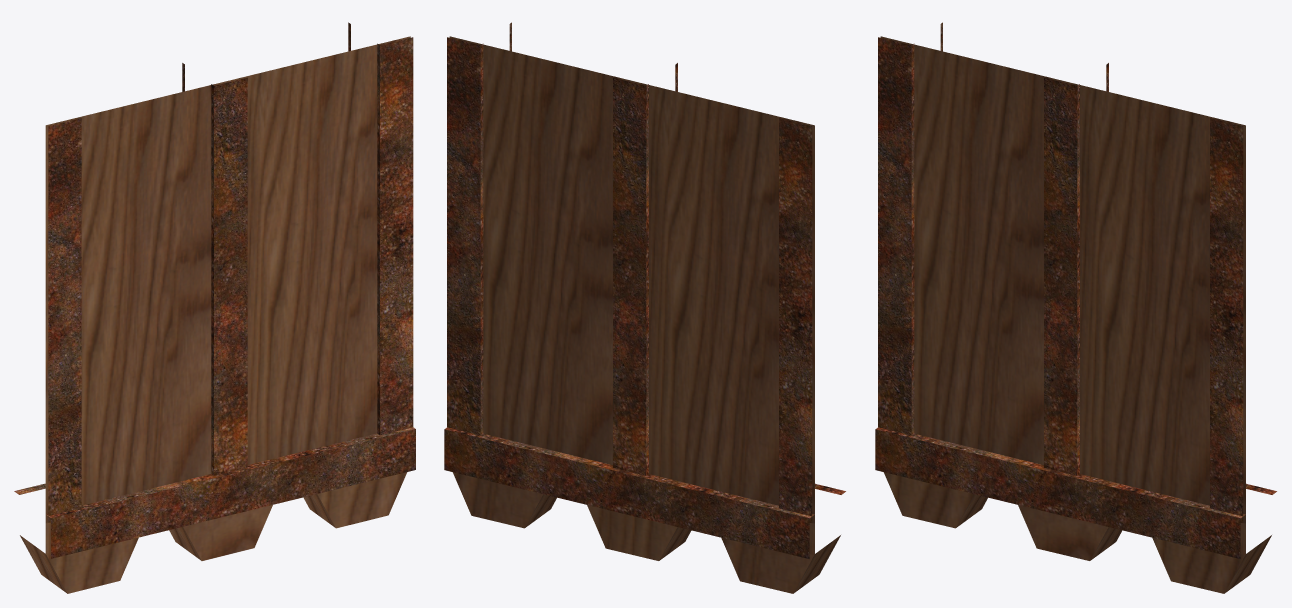
Rendered from wdungeondoor.gltf.
The picture shows the model from 3 angles, left to right: view 1: azimuth 30°, elevation 25°; view 2: azimuth 150°, elevation 25°; view 3: azimuth 330°, elevation 25°; orthographic projection.
Parts seen in each view (by area): view 1: door, trim, tooth; view 2: door, trimb, tooth; view 3: door, trim, tooth.
Boxes of the visible parts, x1,y1,x2,y2 form: door: (45,36,410,554); trim: (46,37,415,558); tooth: (20,472,407,593); door: (449,36,814,555); trimb: (444,37,814,558); tooth: (453,472,840,593); door: (880,36,1245,555); trim: (875,37,1245,558); tooth: (884,472,1271,593).
Bounding box in the file's own units: 8 × 9.94 × 1.4.
Materials: 2 (2 with a texture image).
